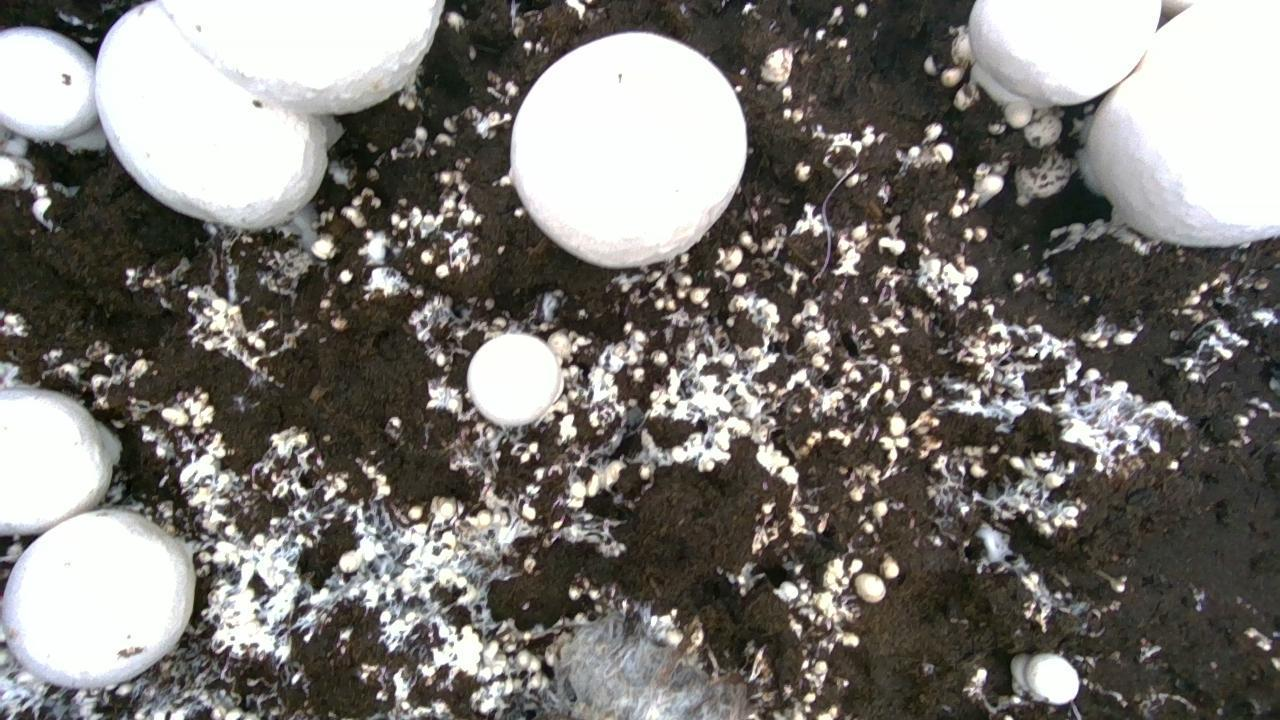WB: (510, 33, 746, 267), (96, 3, 327, 229), (1085, 2, 1279, 246), (3, 510, 194, 688), (161, 0, 442, 114), (969, 0, 1160, 106), (0, 388, 119, 535), (0, 27, 97, 140), (467, 334, 562, 426), (1011, 653, 1079, 704)
